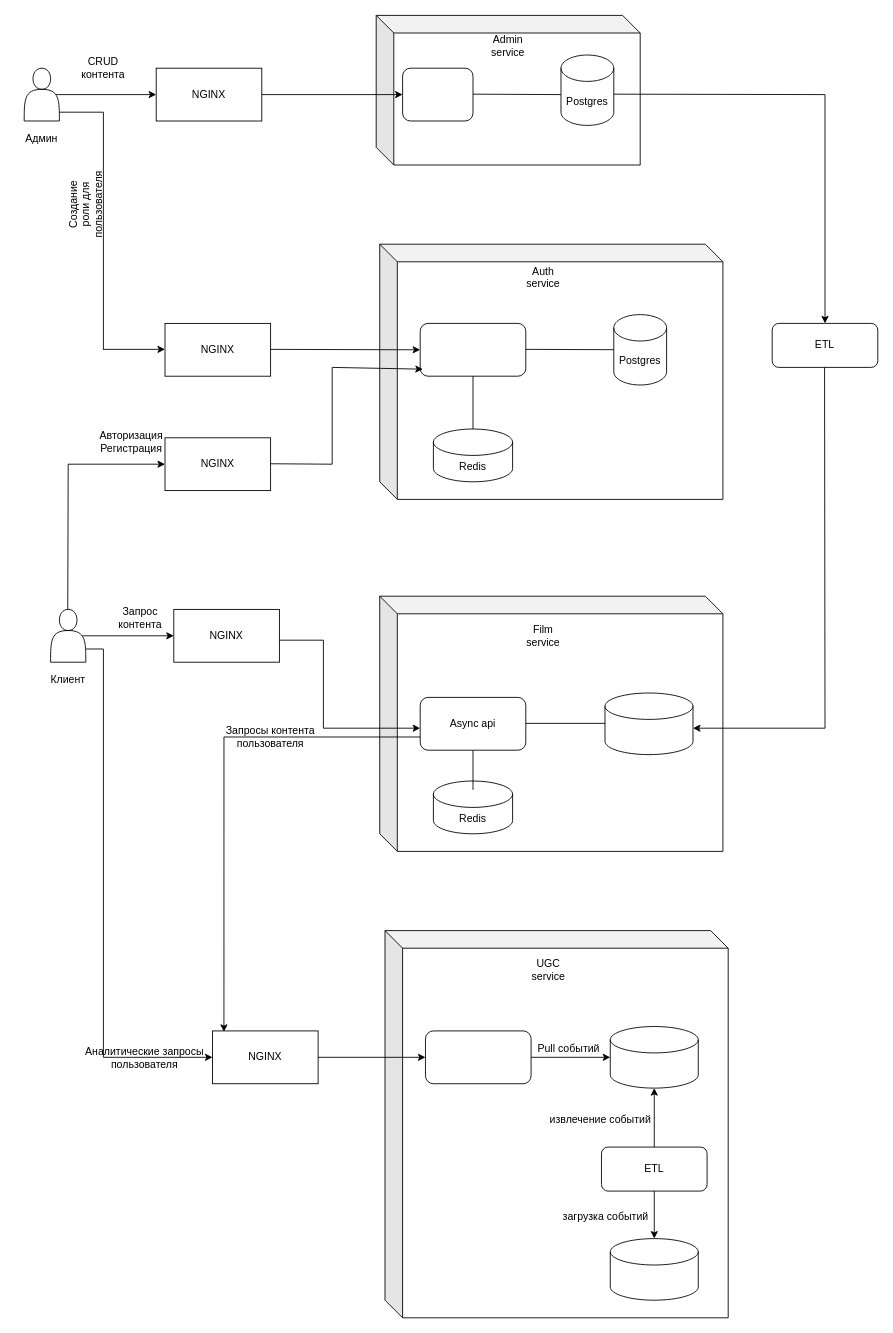
This 893x1333 diagram has some shape labels left out. Here are the shapes that lost their labels. From the top down, the centre of each, then its label:
(x=437, y=94): Django
(x=472, y=349): Auth api
(x=648, y=723): Elastic
(x=478, y=1057): UGC ap i
(x=653, y=1057): Apache Kafka (OLTP DB)
(x=653, y=1269): ClickHouse (OLAP DB)
